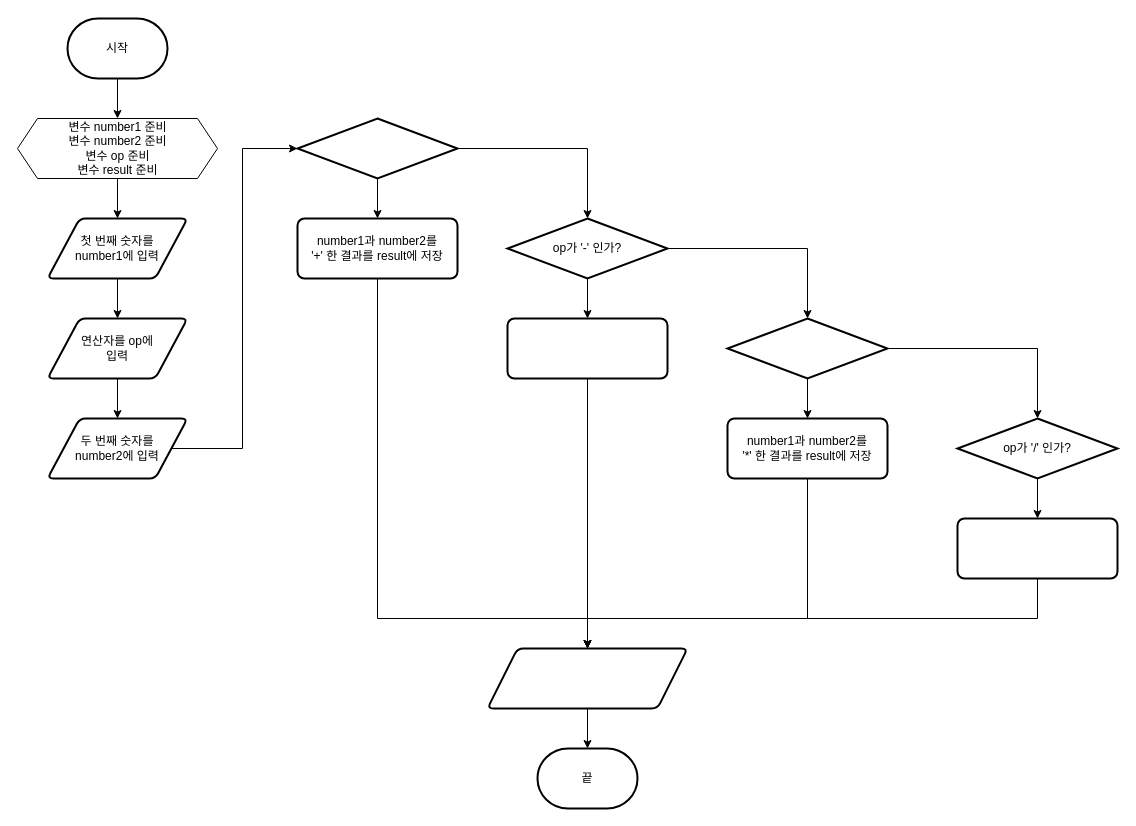
Image size: 1136x826. Some labels were removed from this diagram. Each missing label, with the box of its shape:
number1과 number2를 '-' 한 결과를 result에 저장: (506, 317, 668, 379)
number1과 number2를 '/' 한 결과를 result에 저장: (956, 517, 1118, 579)
op가 '*' 인가?: (726, 317, 888, 379)
op가 '+' 인가?: (296, 117, 458, 179)
result를 출력: (486, 647, 688, 709)
